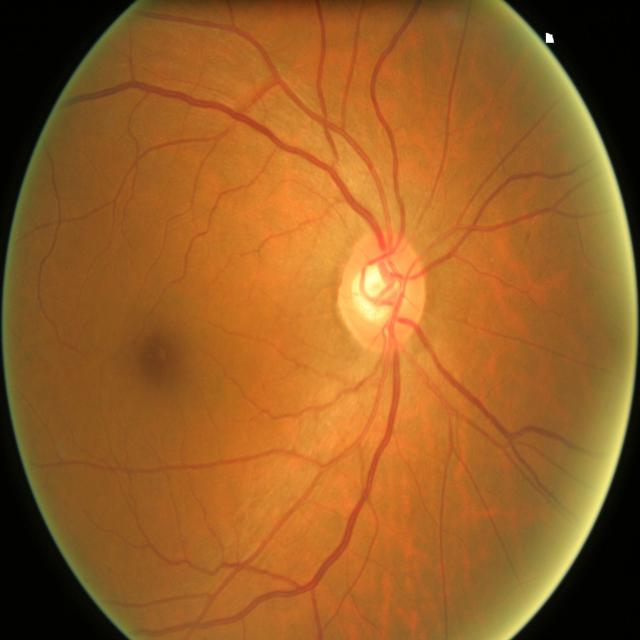OC: (352, 262, 398, 320)
OD: (336, 230, 425, 348)
